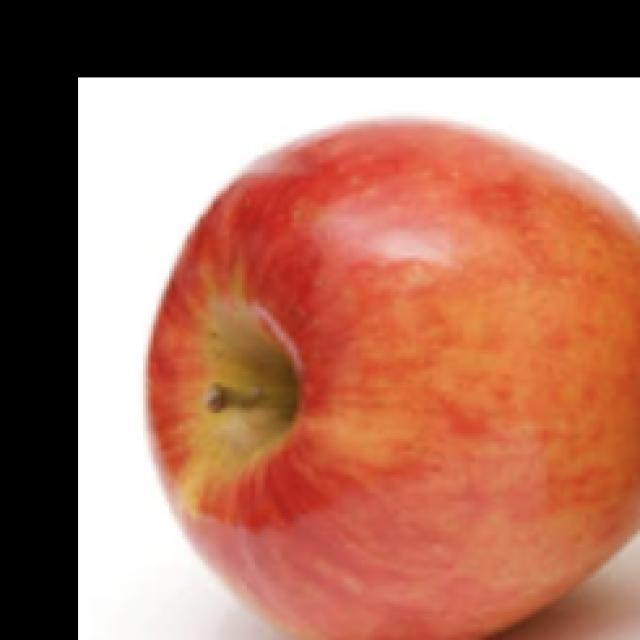Fresh Apple: (153, 116, 640, 639)
